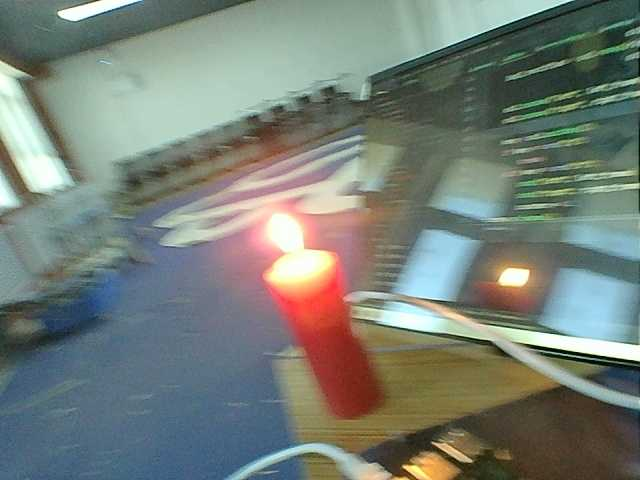candle: (255, 261, 394, 420)
fire: (258, 207, 316, 258), (493, 258, 541, 295)
